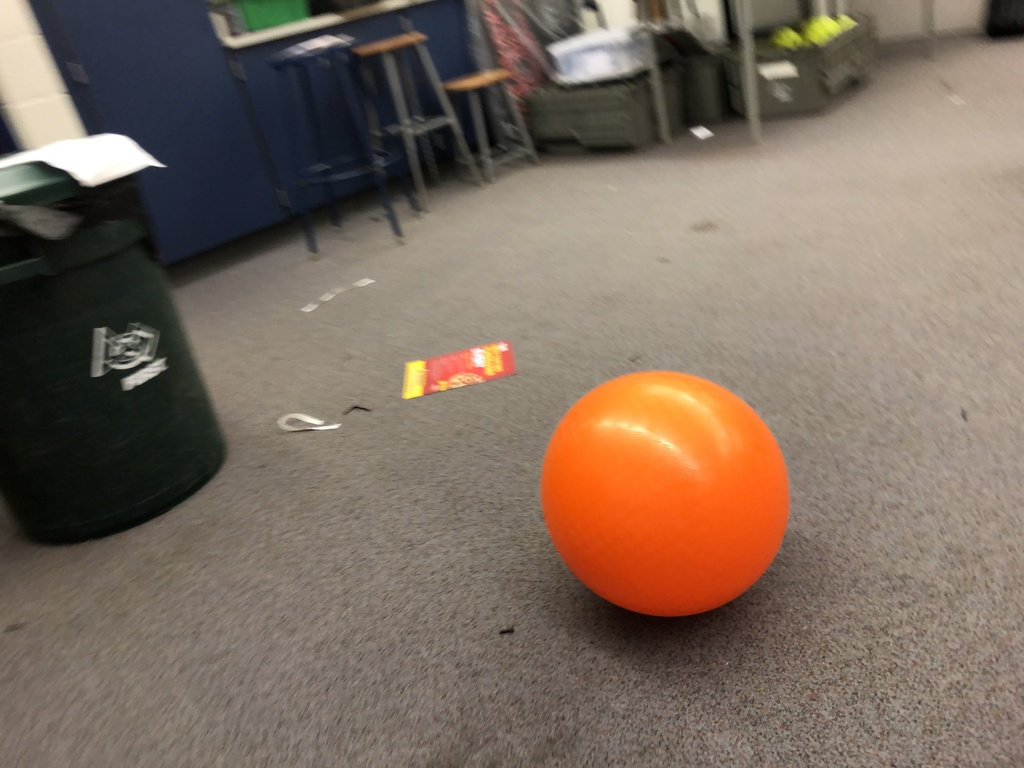cargo: (535, 363, 793, 620)
